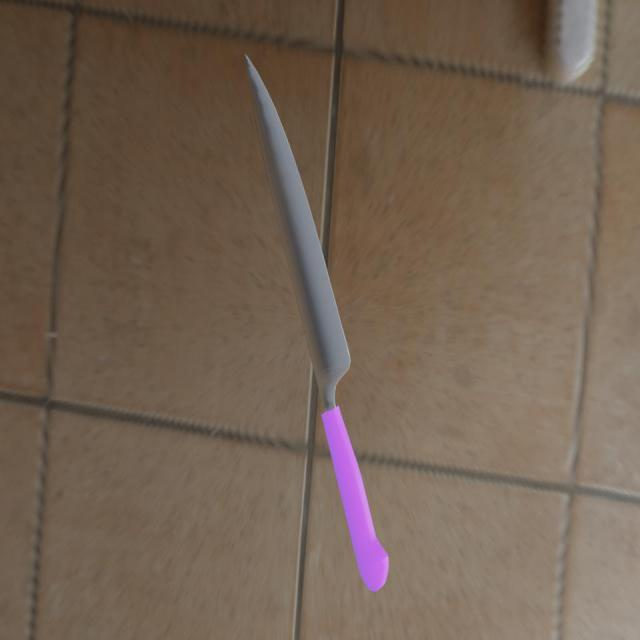knife: (321, 403, 389, 593)
